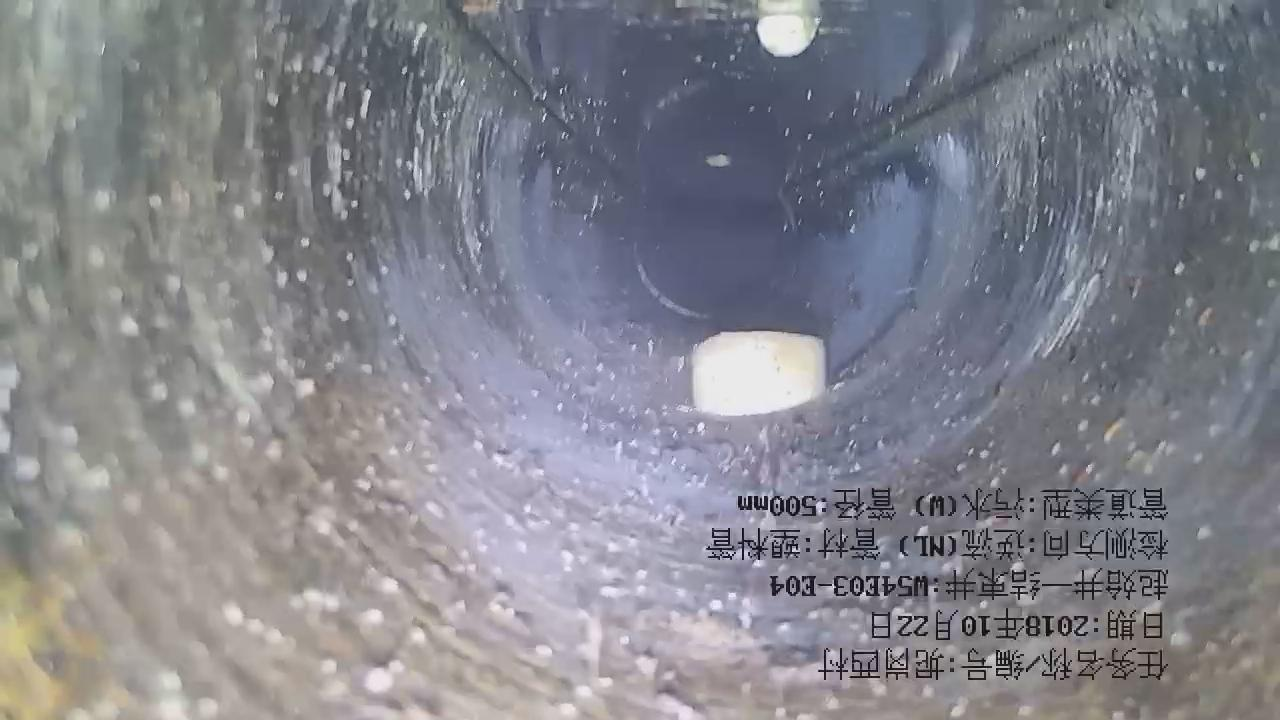CKTJ: (634, 248, 703, 319)
ZGAJ: (690, 331, 826, 416)
